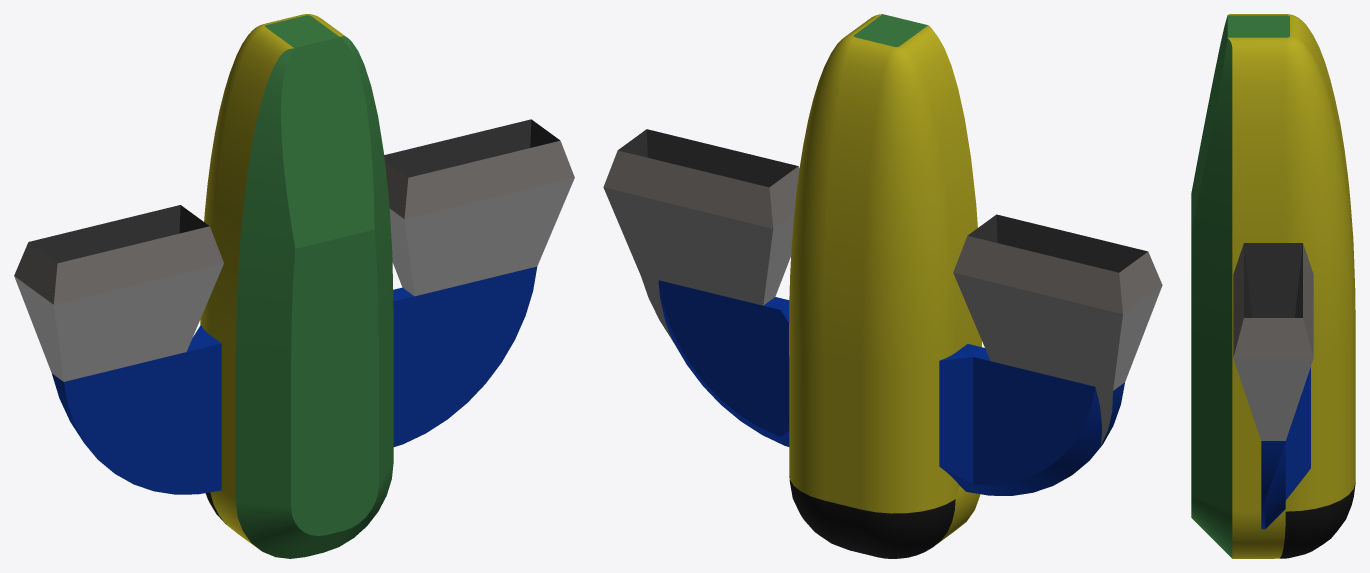
Rendered from ship_3 v1.fbx.
3 renders of one model, left to right at view 1: azimuth 30°, elevation 25°; view 2: azimuth 150°, elevation 25°; view 3: azimuth 270°, elevation 25°, orthographic.
Visible parts, largest first — view 1: 3DGeom~74, 3DGeom~69, 3DGeom~73, 3DGeom~75, 3DGeom~71, 3DGeom~70; view 2: 3DGeom~71, 3DGeom~69, 3DGeom~73, 3DGeom~75, 3DGeom~70, 3DGeom~72, 3DGeom~74; view 3: 3DGeom~71, 3DGeom~74, 3DGeom~75, 3DGeom~70, 3DGeom~73, 3DGeom~69, 3DGeom~72.
Part boxes in pixels (box(x1,y1,x2,y2)): 3DGeom~74: box(235, 15, 393, 558); 3DGeom~69: box(52, 266, 537, 494); 3DGeom~73: box(14, 177, 574, 381); 3DGeom~75: box(14, 140, 574, 304); 3DGeom~71: box(200, 14, 345, 549); 3DGeom~70: box(29, 119, 559, 263); 3DGeom~71: box(789, 14, 981, 545); 3DGeom~69: box(658, 280, 1124, 495); 3DGeom~73: box(603, 187, 1162, 445); 3DGeom~75: box(603, 150, 1162, 313); 3DGeom~70: box(618, 129, 1147, 272); 3DGeom~72: box(789, 476, 955, 558); 3DGeom~74: box(853, 14, 927, 46); 3DGeom~71: box(1228, 14, 1355, 558); 3DGeom~74: box(1191, 15, 1289, 558); 3DGeom~75: box(1233, 243, 1313, 358); 3DGeom~70: box(1244, 243, 1302, 317); 3DGeom~73: box(1233, 358, 1313, 440); 3DGeom~69: box(1261, 367, 1310, 529); 3DGeom~72: box(1280, 482, 1355, 558).
Size of the model in its own units: 0.1486 by 0.04 by 0.14.
